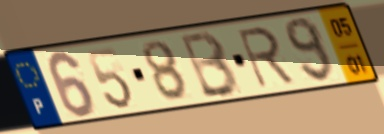5: (82, 44, 136, 112)
6: (46, 48, 98, 120)
8: (140, 39, 191, 103)
9: (284, 15, 338, 85)
B: (178, 28, 241, 100)
R: (234, 24, 299, 92)
